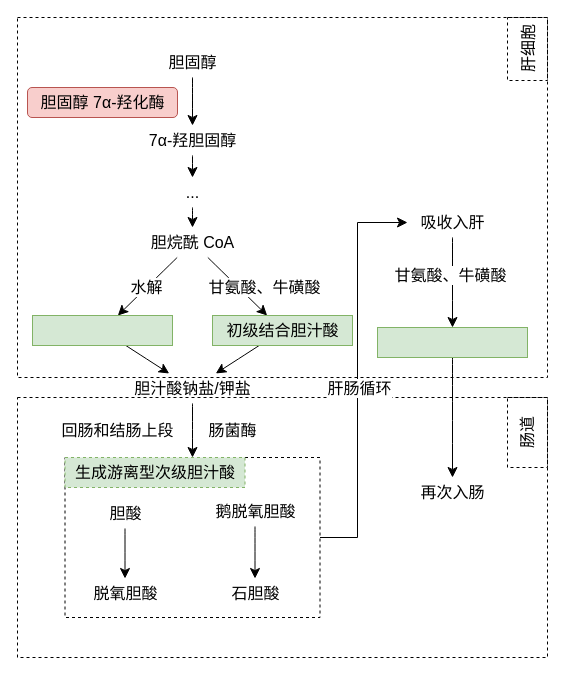
This 565x675 diagram has some shape labels left out. The shapes that lost their labels are listed below. From the top down, each one's box as (x1, y1, x2, y2) in pixels, then its label:
(32, 314, 172, 346): 初级游离胆汁酸
(376, 326, 528, 358): 结合型次级胆汁酸
